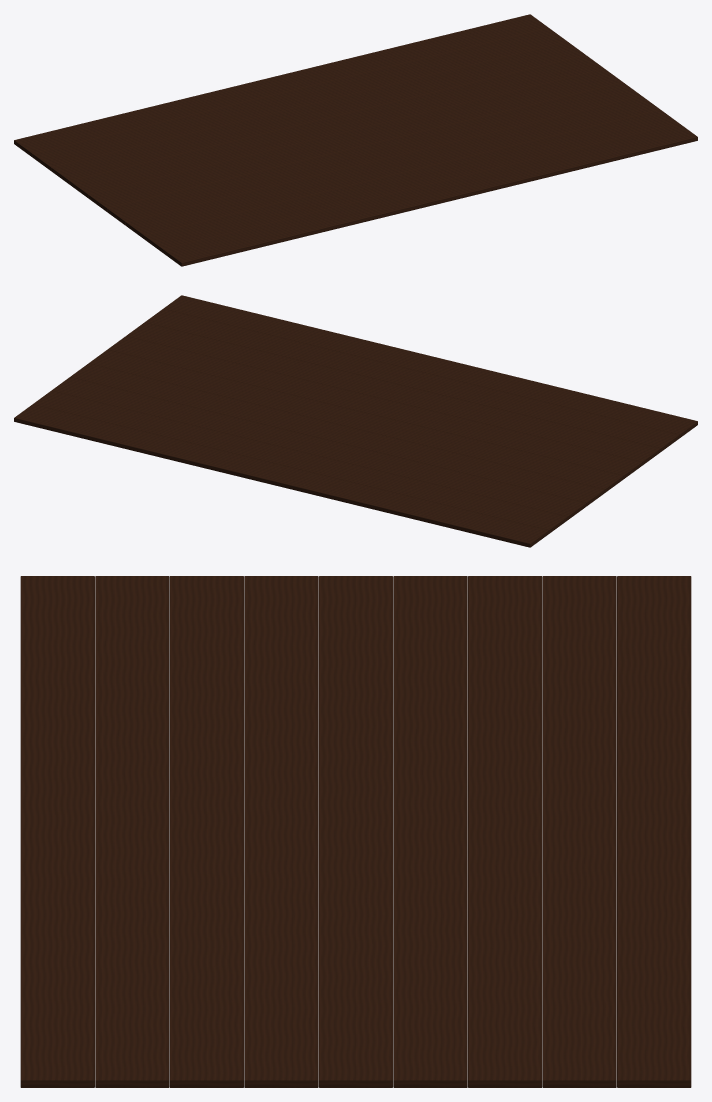
Rendered from desk_background.glb.
3 views of the same model, one above another, from view 1: azimuth 30°, elevation 25°; view 2: azimuth 150°, elevation 25°; view 3: azimuth 270°, elevation 25° (orthographic). The views are drawn at different scales.
Visible parts, largest first — view 1: desk_background.002; view 2: desk_background.002; view 3: desk_background.002.
Boxes of the visible parts, x1,y1,x2,y2 form: desk_background.002: (14,14,697,266); desk_background.002: (14,295,697,547); desk_background.002: (20,576,691,1087).
Size of the model in its own units: 32 by 0.24 by 17.99.
Materials: 1 (1 with a texture image).
